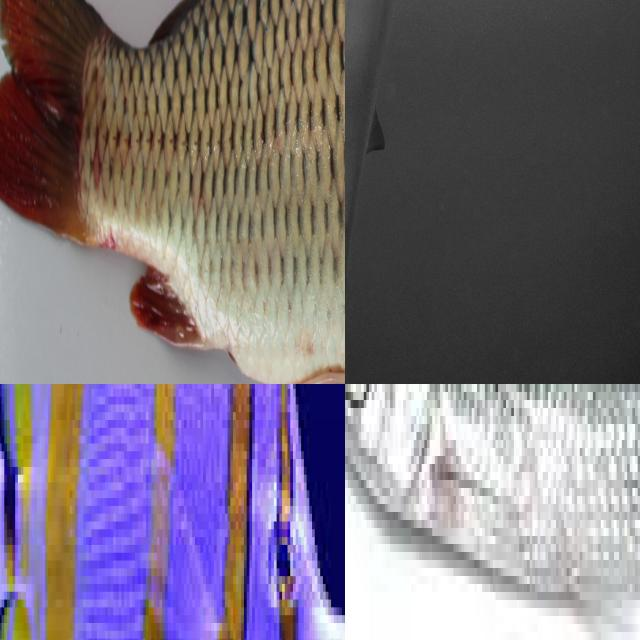fish: (0, 0, 345, 384), (66, 384, 345, 640), (371, 384, 640, 640), (345, 0, 640, 152)
